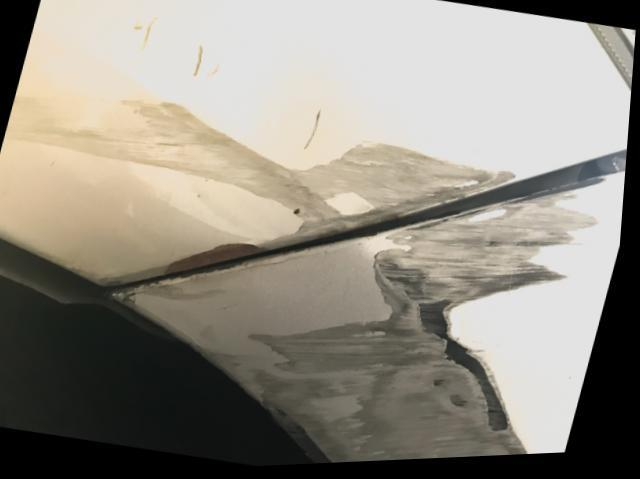scratch: (254, 181, 613, 466), (5, 94, 519, 250)
